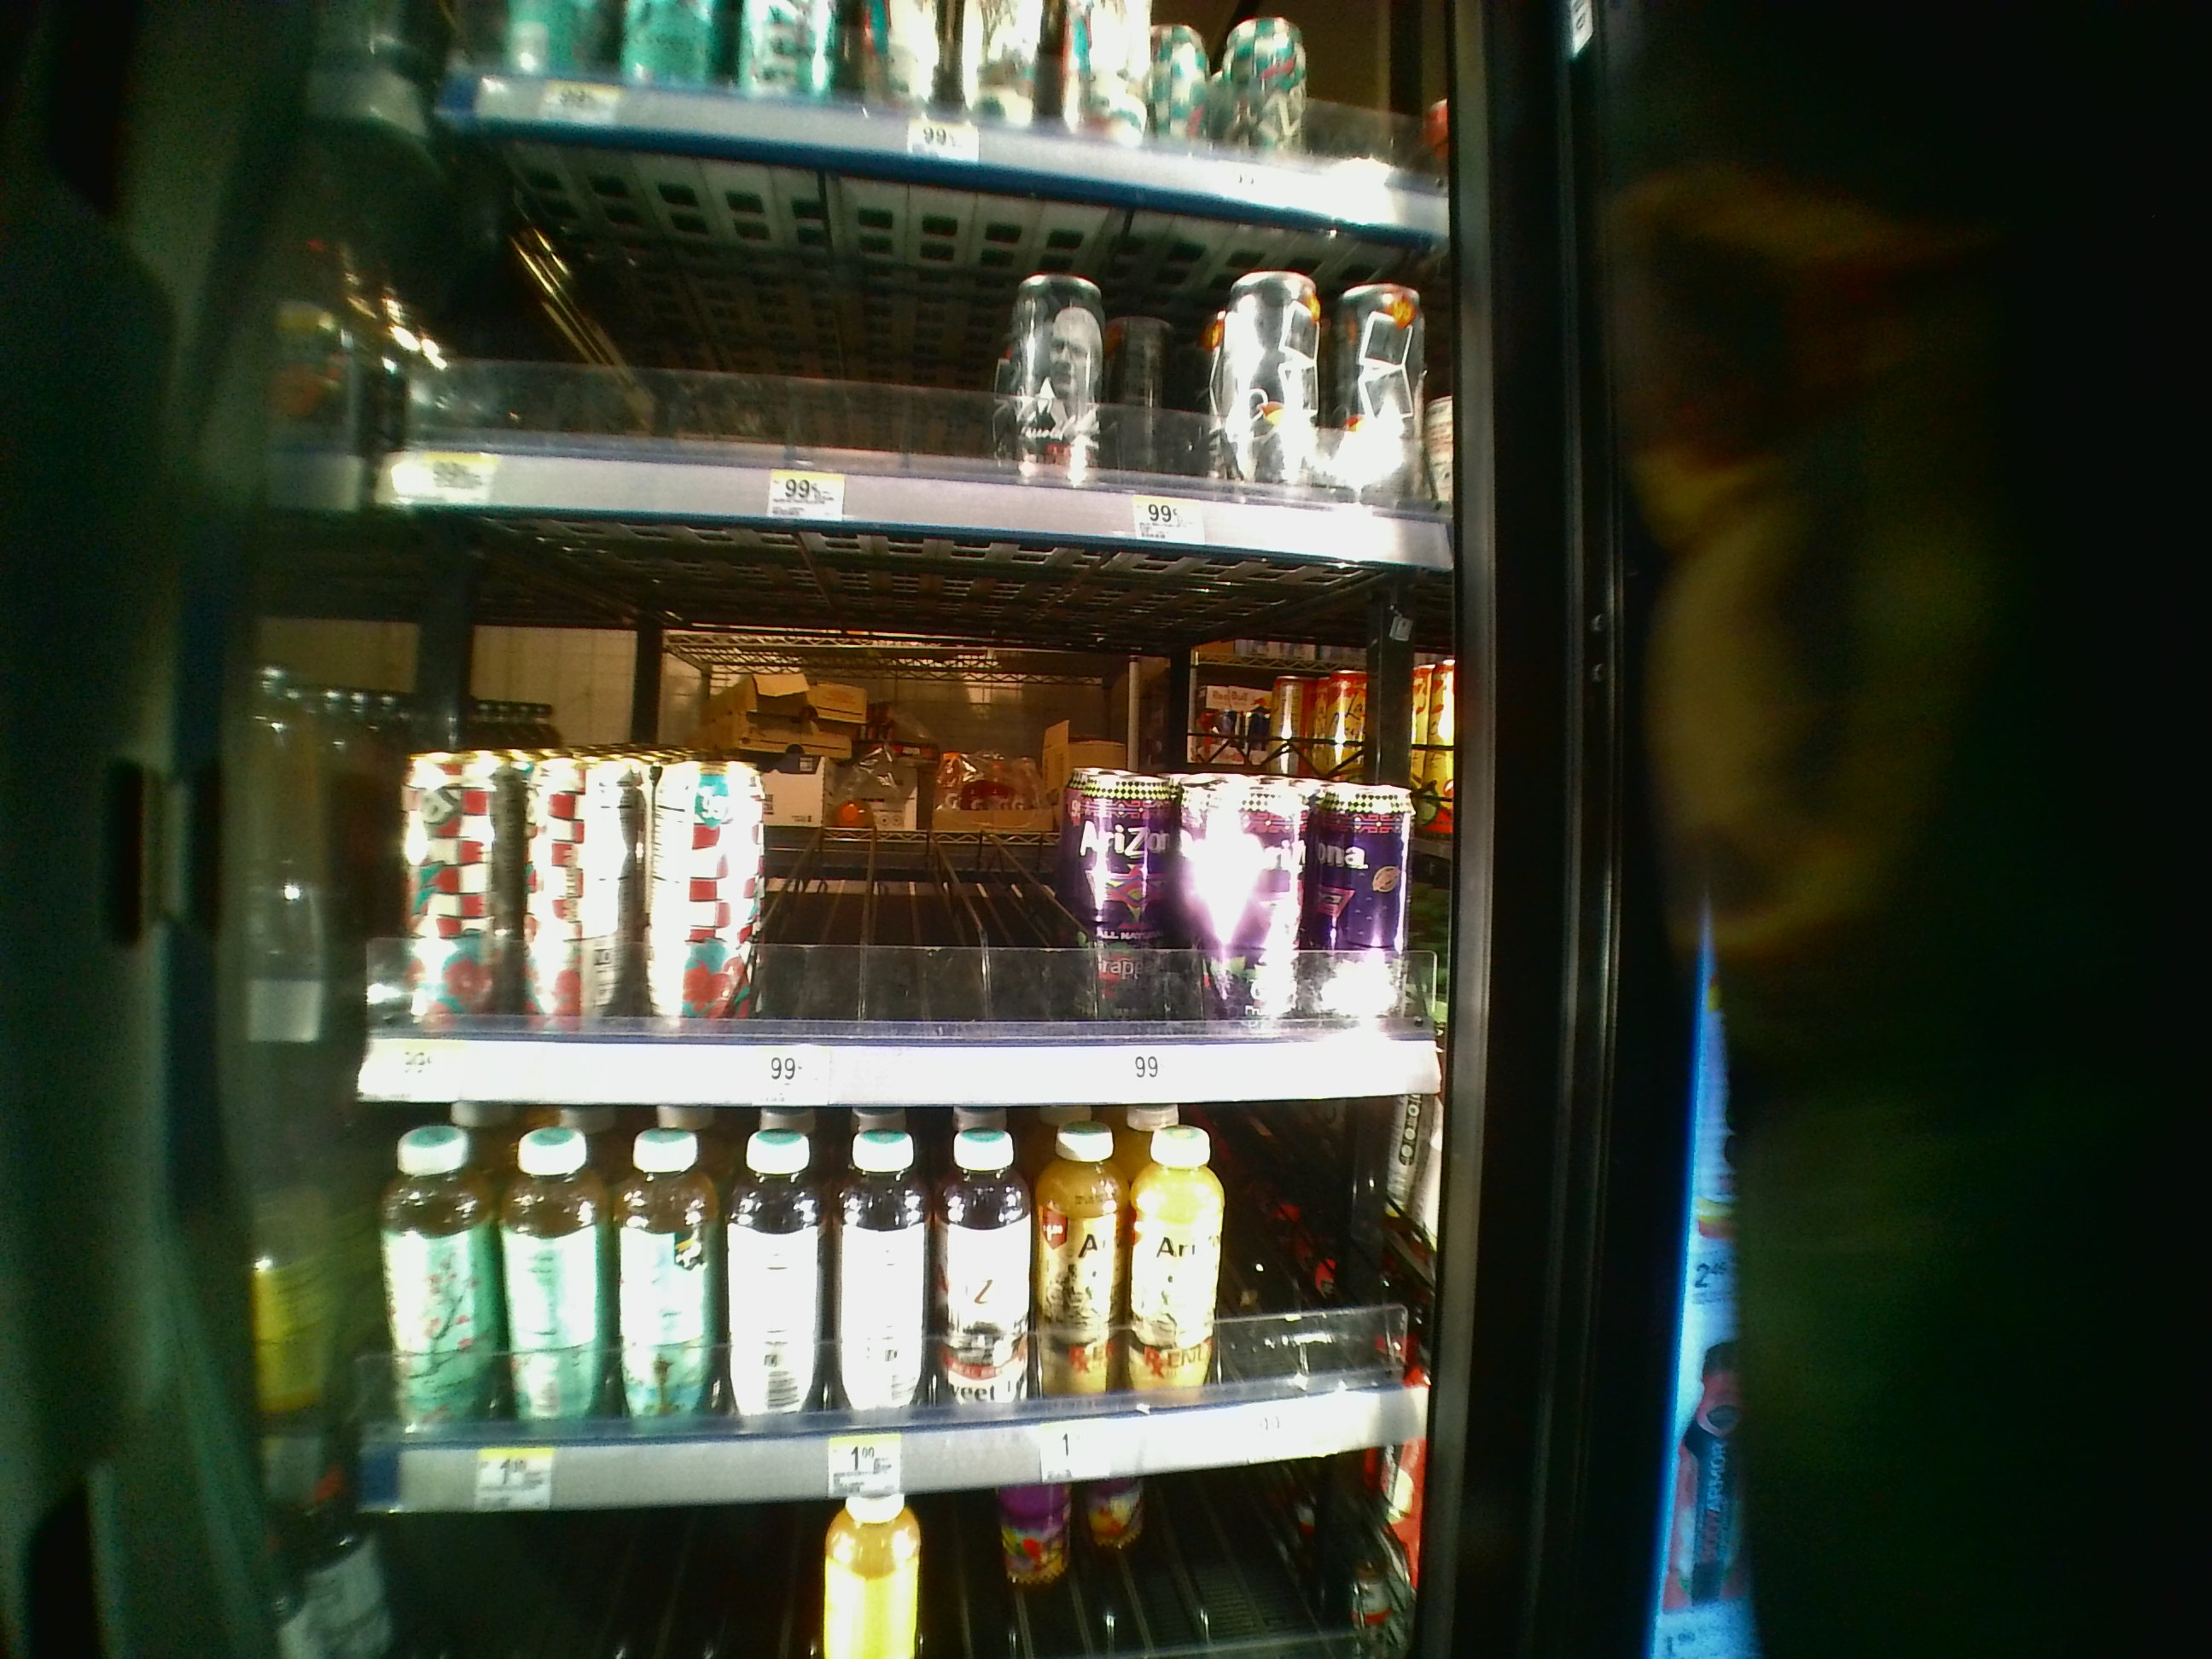shelf: (350, 511, 1444, 1103), (355, 1115, 1440, 1514)
